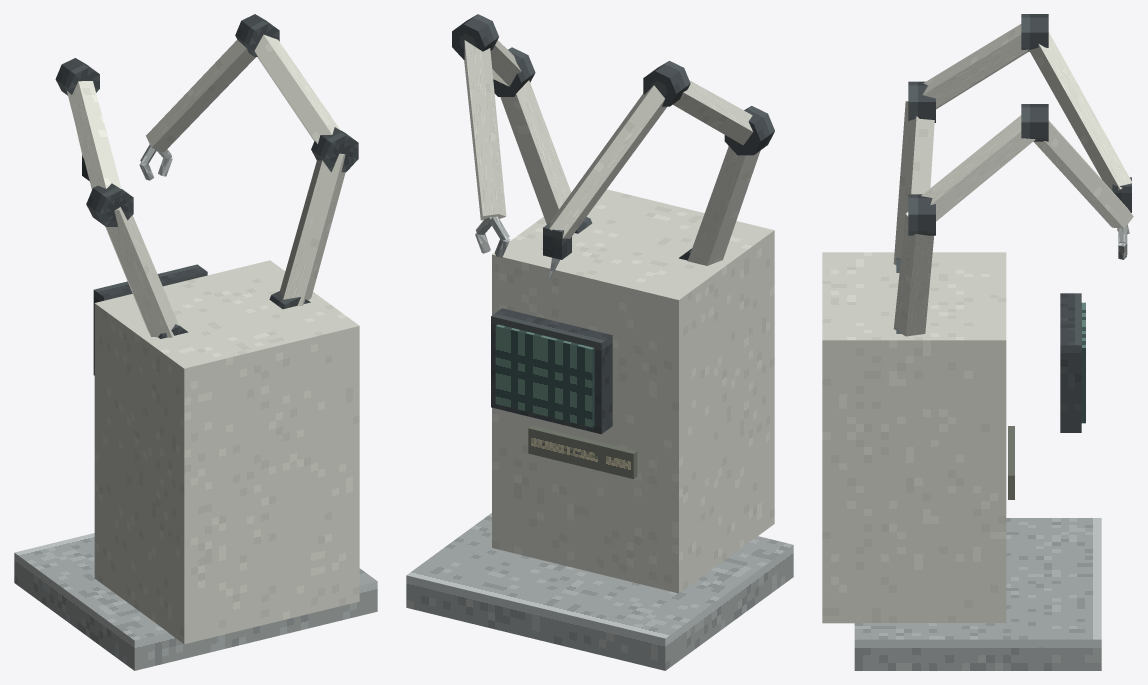
Rendered from f_autodoc.glb.
The picture shows the model from 3 angles, left to right: view 1: azimuth 30°, elevation 25°; view 2: azimuth 150°, elevation 25°; view 3: azimuth 270°, elevation 25°; orthographic projection. The views are drawn at different scales.
Visible parts, largest first — view 1: block_surgical-arm-control-pedestal, block_surgical-manipulator-arm-link-1 (×5), block_surgical-system-floor-base, block_surgical-manipulator-joint (×4), block_surgery-terminal-bezel; view 2: block_surgical-arm-control-pedestal, block_surgical-system-floor-base, block_surgical-manipulator-arm-link-1 (×6), block_surgery-terminal-display, block_surgical-manipulator-joint (×4), block_surgery-terminal-bezel, block_surgical-safety-labels, block_slim-tool-holder; view 3: block_surgical-arm-control-pedestal, block_surgical-system-floor-base, block_surgical-manipulator-arm-link-1 (×6), block_surgical-manipulator-joint (×4), block_surgery-terminal-bezel, block_surgery-terminal-display, block_surgical-safety-labels.
Part boxes in pixels (x1,y1,x2,y2): block_surgical-arm-control-pedestal: [94, 260, 359, 644]; block_surgical-manipulator-arm-link-1 (×5): [67, 34, 345, 337]; block_surgical-system-floor-base: [14, 533, 377, 670]; block_surgical-manipulator-joint (×4): [55, 14, 358, 226]; block_surgery-terminal-bezel: [93, 264, 207, 375]; block_surgical-arm-control-pedestal: [492, 189, 774, 593]; block_surgical-system-floor-base: [406, 513, 793, 670]; block_surgical-manipulator-arm-link-1 (×6): [464, 40, 760, 265]; block_surgery-terminal-display: [495, 324, 594, 427]; block_surgical-manipulator-joint (×4): [452, 14, 774, 155]; block_surgery-terminal-bezel: [491, 308, 612, 434]; block_surgical-safety-labels: [528, 425, 637, 478]; block_slim-tool-holder: [543, 223, 571, 259]; block_surgical-arm-control-pedestal: [822, 252, 1006, 623]; block_surgical-system-floor-base: [854, 518, 1101, 670]; block_surgical-manipulator-arm-link-1 (×6): [893, 24, 1133, 336]; block_surgical-manipulator-joint (×4): [908, 14, 1048, 235]; block_surgery-terminal-bezel: [1060, 293, 1081, 432]; block_surgery-terminal-display: [1081, 302, 1085, 423]; block_surgical-safety-labels: [1008, 426, 1014, 499].
Size of the model in its own units: 0.7673 by 1.52 by 0.7788.
1 material, 1 textured.
